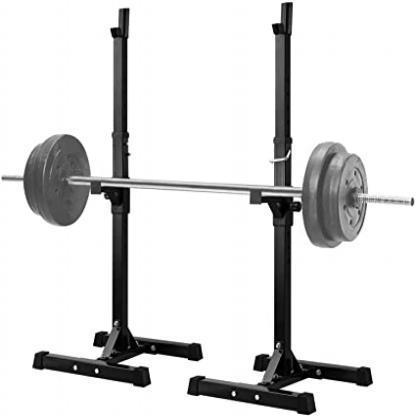barbell: (2, 134, 415, 248)
